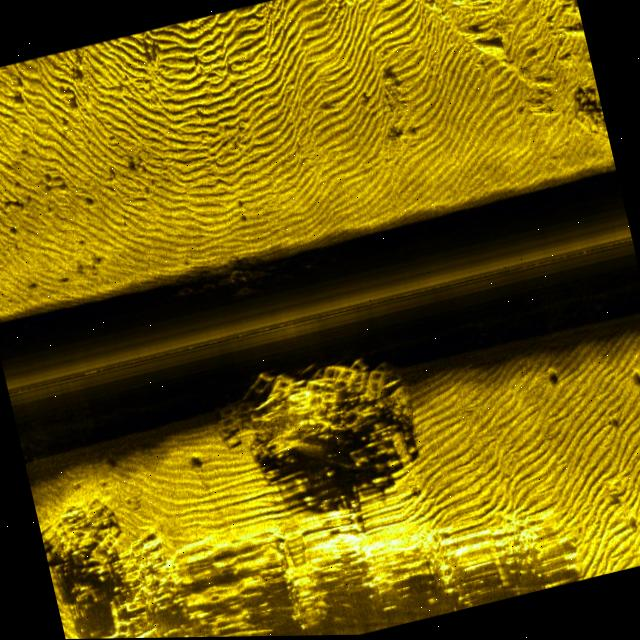artificial reef: (202, 342, 408, 498), (35, 477, 191, 640), (162, 260, 288, 333)
